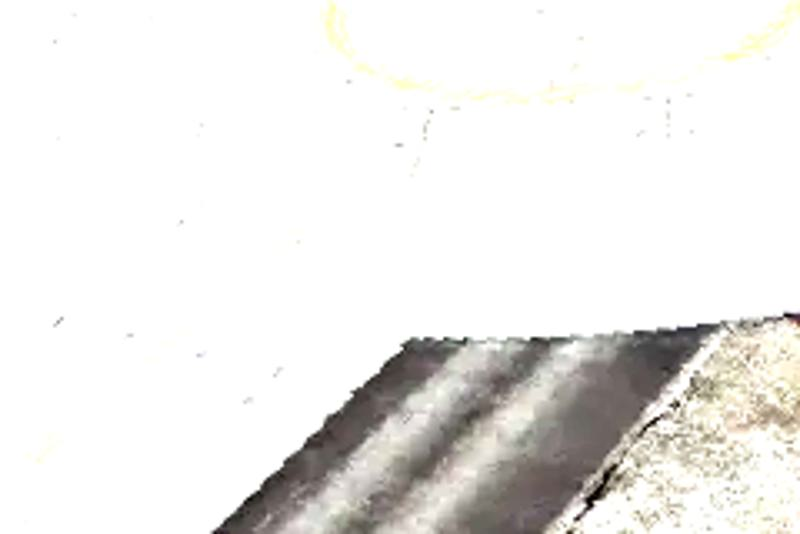Apron: (306, 1, 796, 130)
